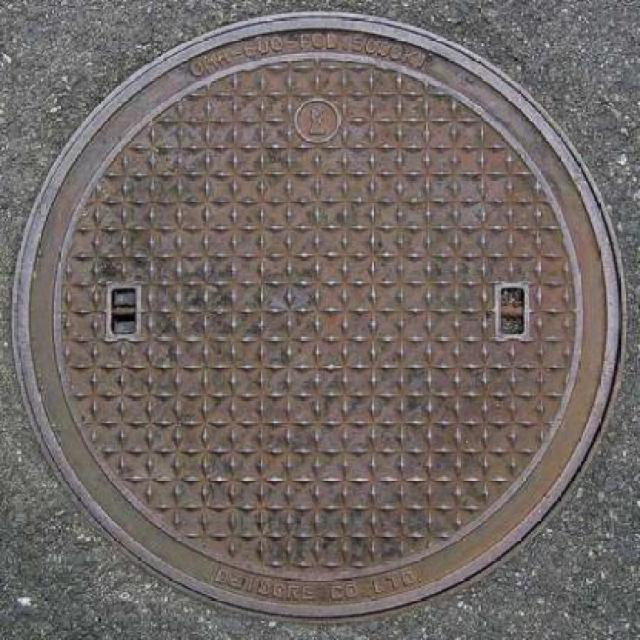Manhole: (18, 5, 637, 632)
